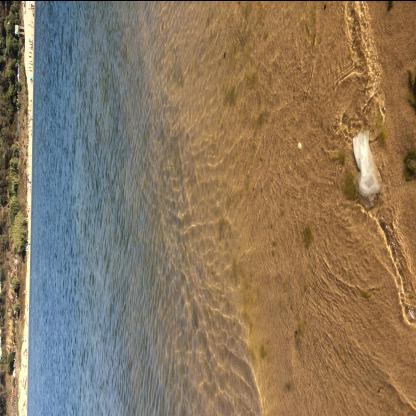plastik: (352, 128, 384, 209)
